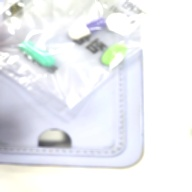러키펜정: (106, 13, 130, 32)
씨엠지세파클러캡슐: (68, 18, 107, 41)
에르도캡슐: (17, 42, 57, 67)
휴티렌정: (101, 42, 127, 66)
